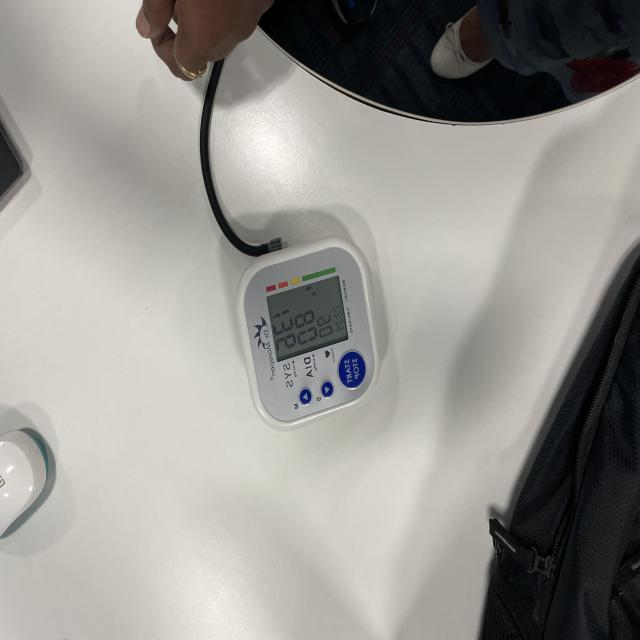bp: (234, 241, 385, 432)
